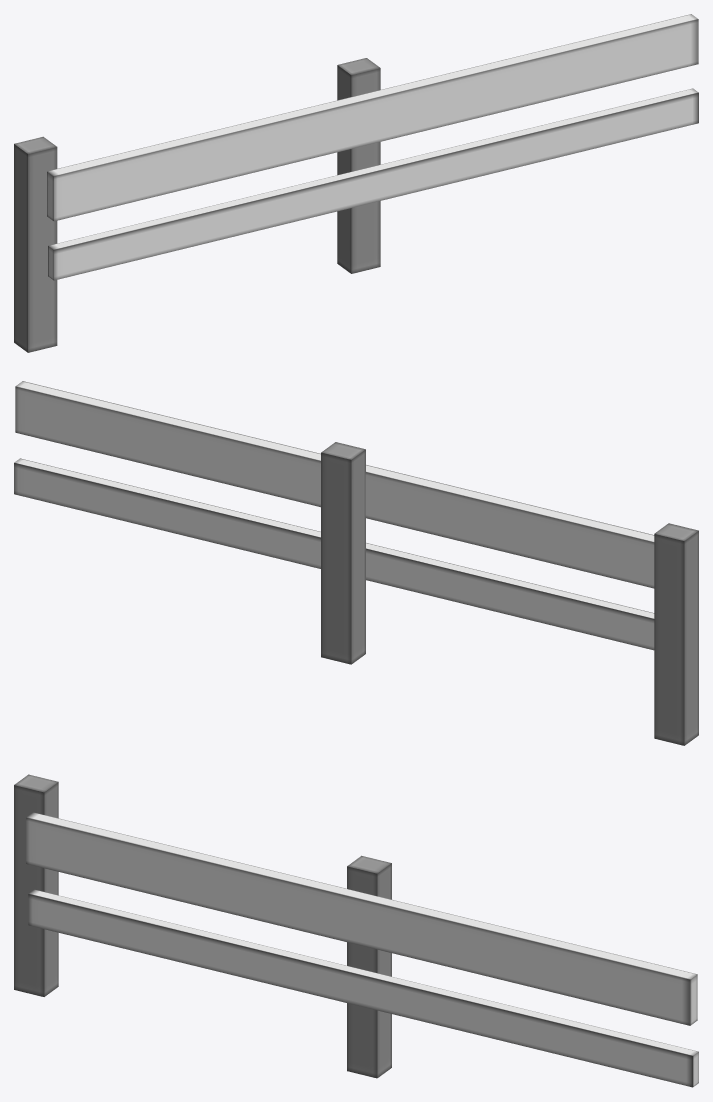
Rendered from Fence-01.fbx.
The picture shows the model from 3 angles, top to bottom: view 1: azimuth 30°, elevation 25°; view 2: azimuth 150°, elevation 25°; view 3: azimuth 330°, elevation 25°; orthographic projection. The views are drawn at different scales.
Parts seen in each view (by area): view 1: Fence_01; view 2: Fence_01; view 3: Fence_01.
Part boxes in pixels (bbox=[...]): Fence_01: bbox=[14, 14, 698, 352]; Fence_01: bbox=[14, 381, 698, 745]; Fence_01: bbox=[14, 774, 698, 1087].
Bounding box in the file's own units: 1 × 0.2856 × 0.0551.
